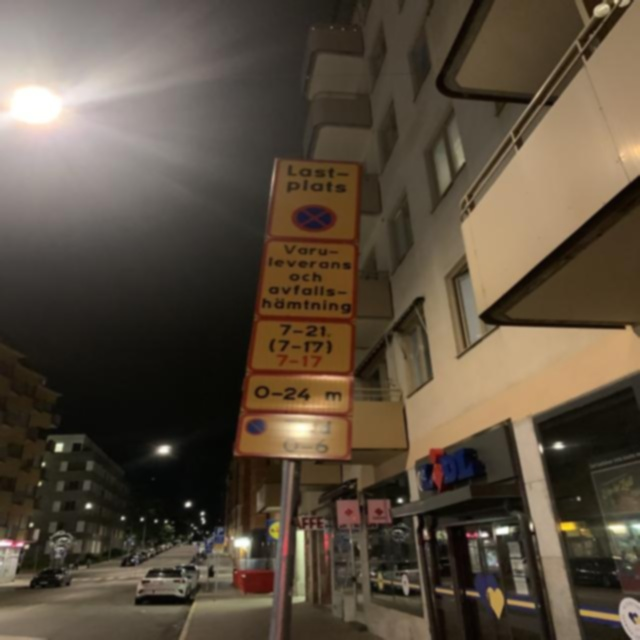lastplats: (268, 154, 357, 242)
